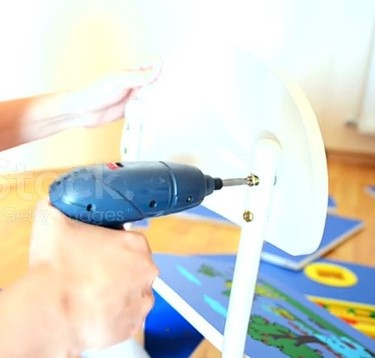driller: (42, 157, 251, 312)
